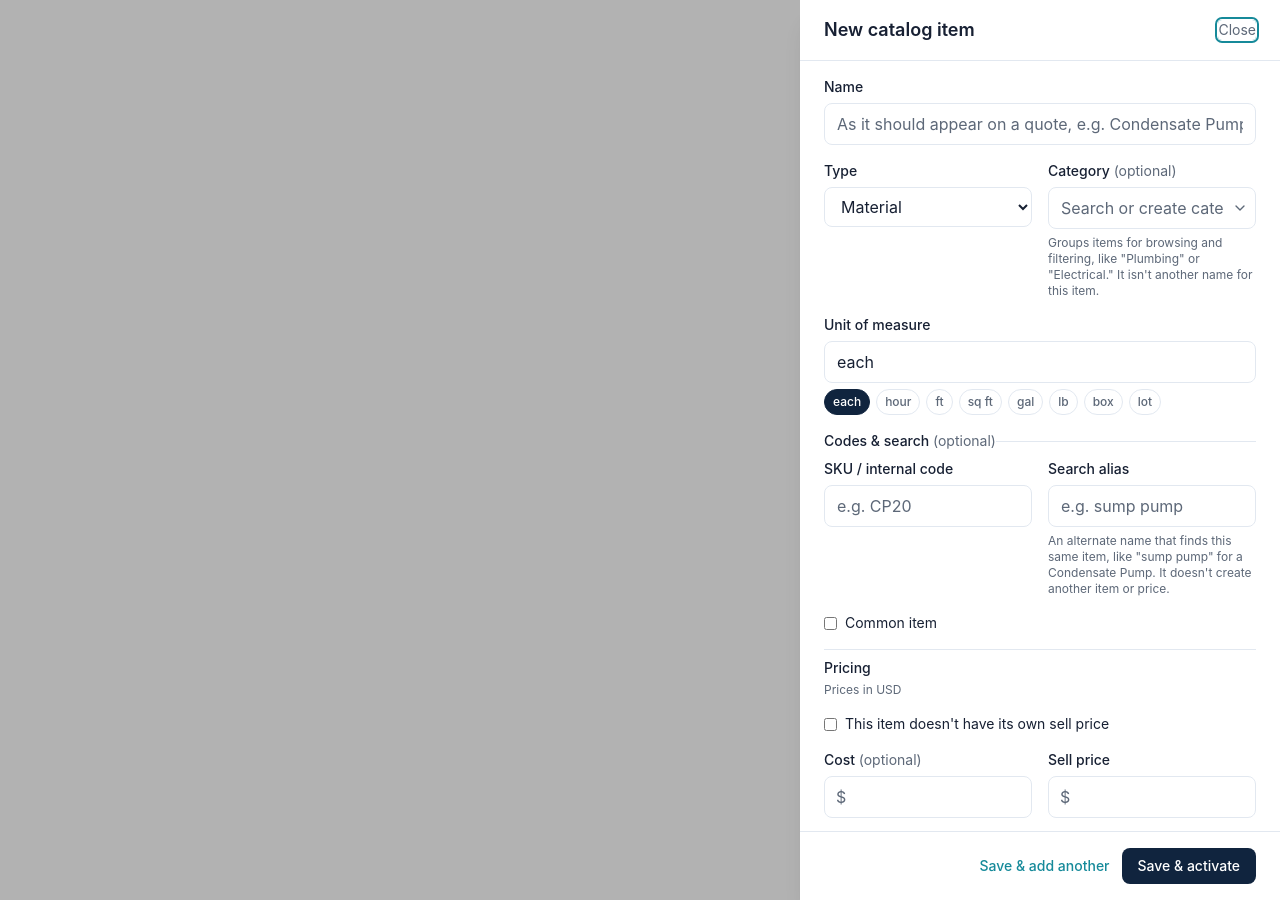
it: CatalogItemDrawer › maps a server SKU-conflict error to the SKU field and focuses it
This screenshot has width=1280, height=900.
Type "Condensate Pump" into the field labelled "Name" at (1040, 124), box [824,103,1256,145]
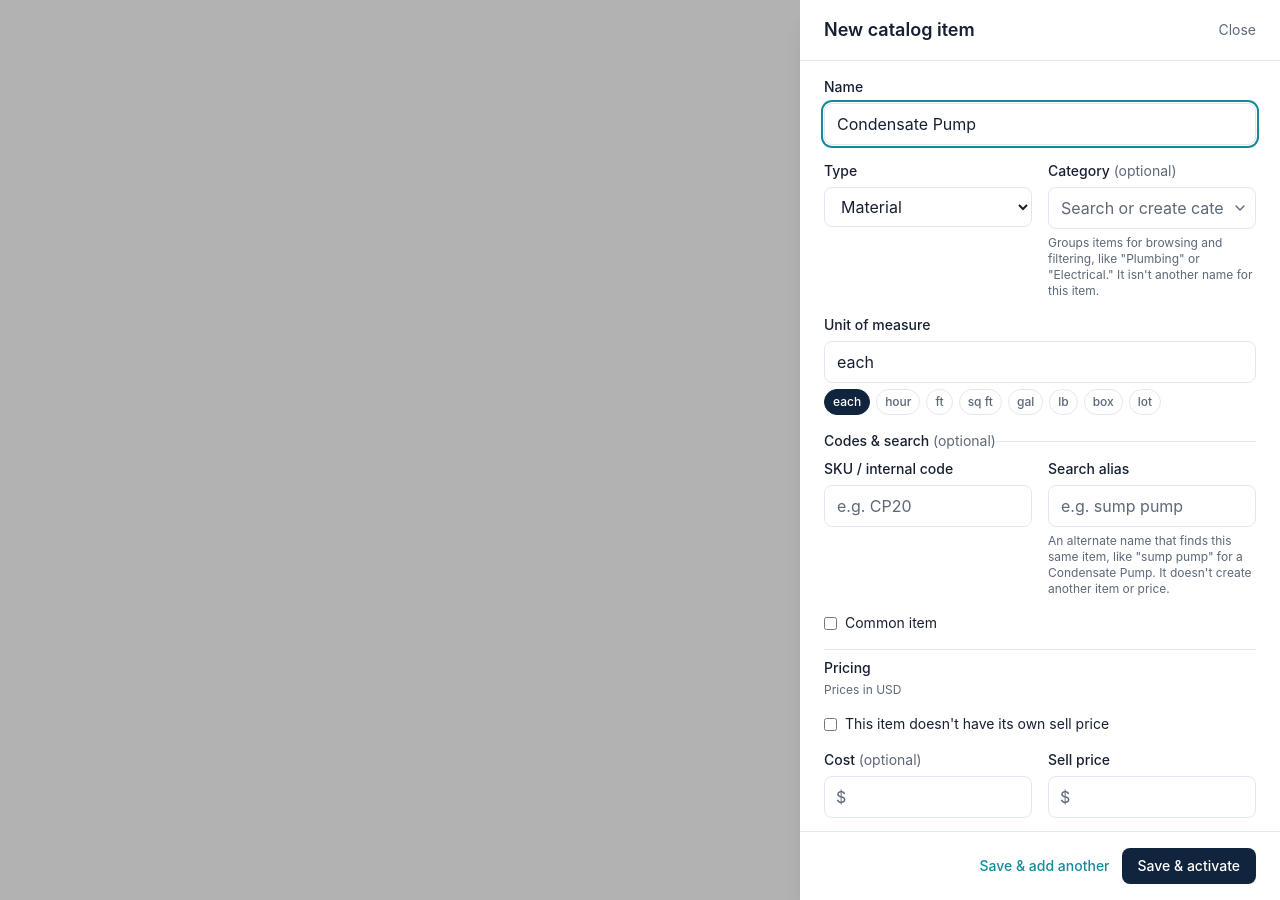
Type "100" into the number field labelled "Sell price" at (1152, 797), box [1048,776,1256,818]
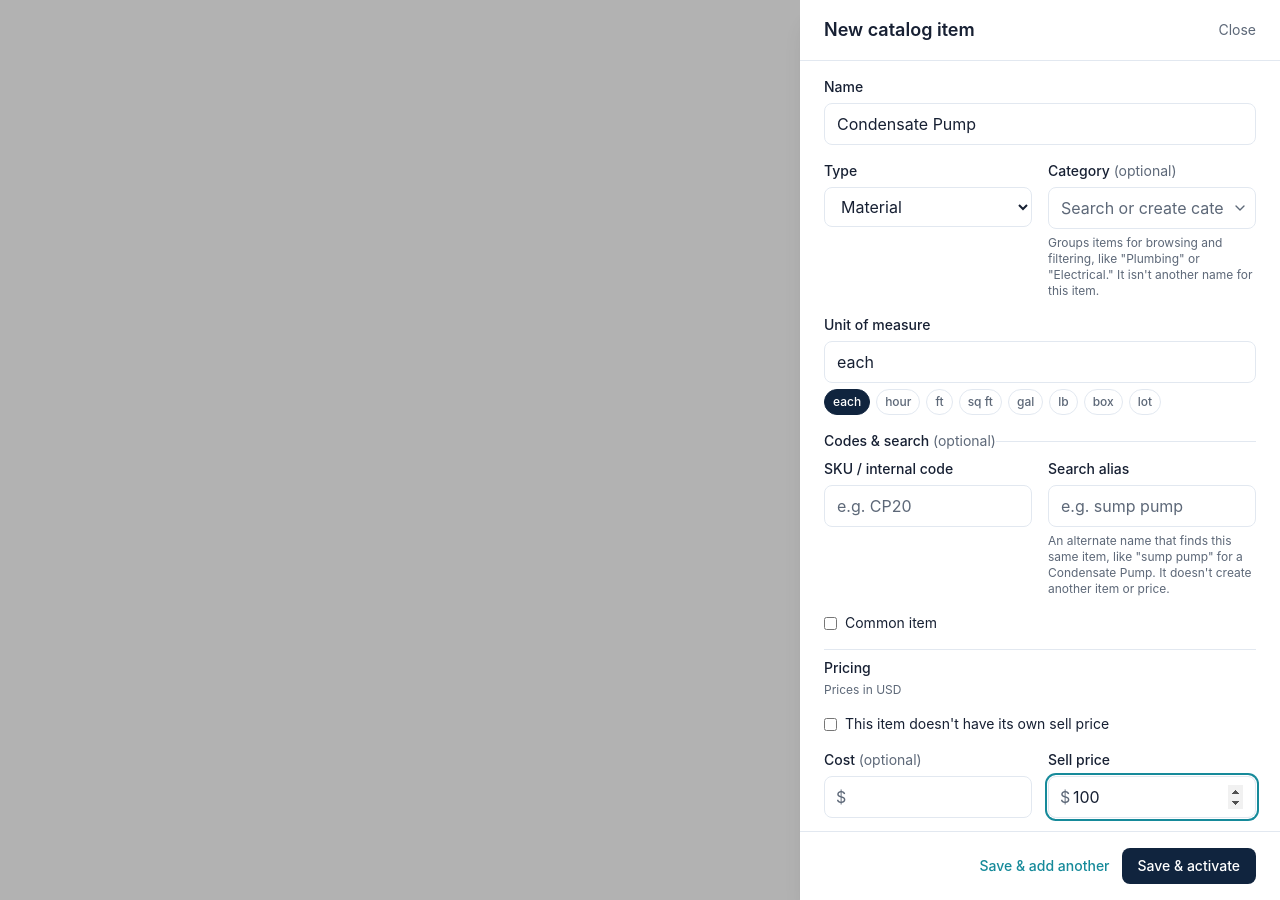
Type "CP20" into the field labelled "SKU / internal code" at (928, 506), box [824,485,1032,527]
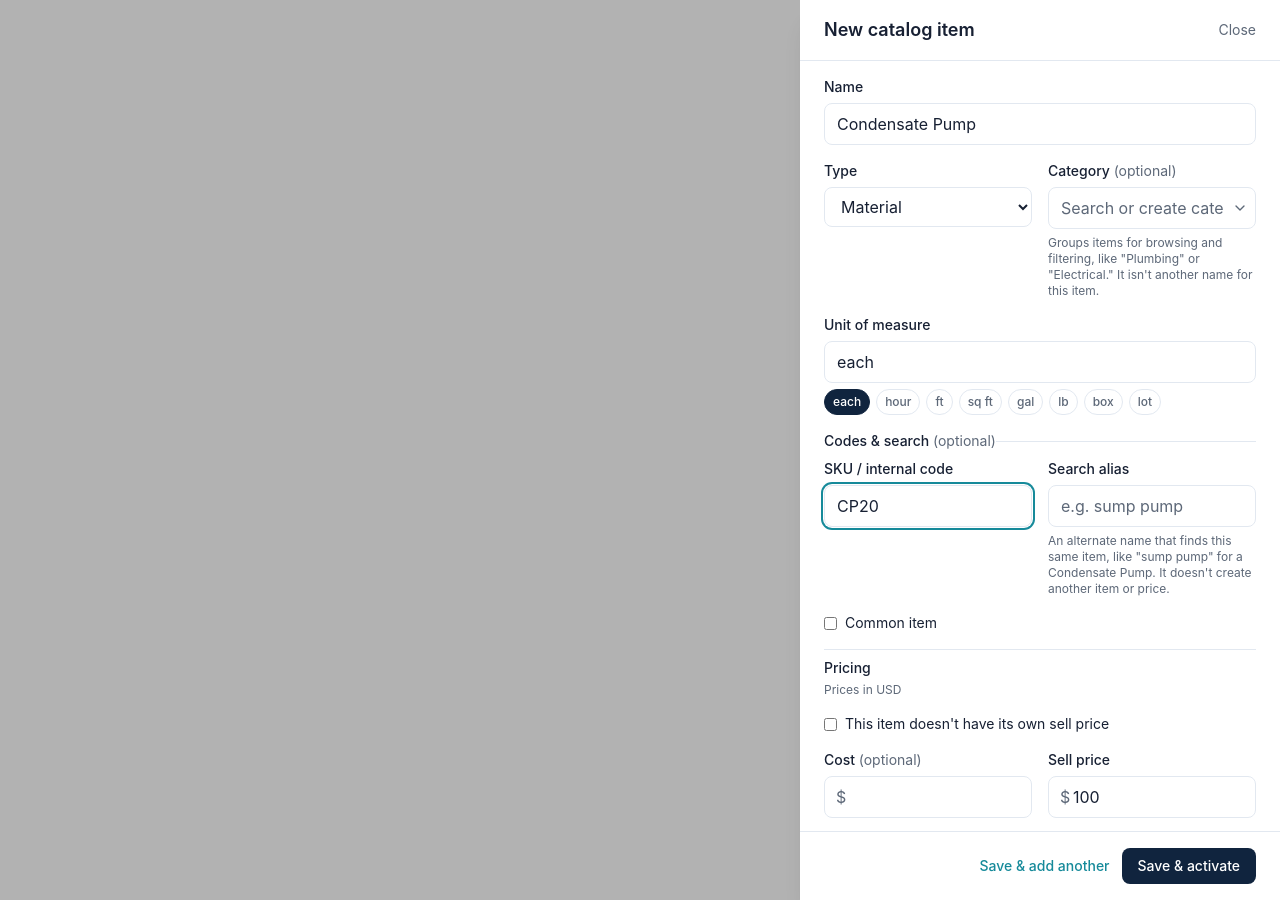
Click the button "Save & activate" at (1189, 866), box [1122,848,1256,884]
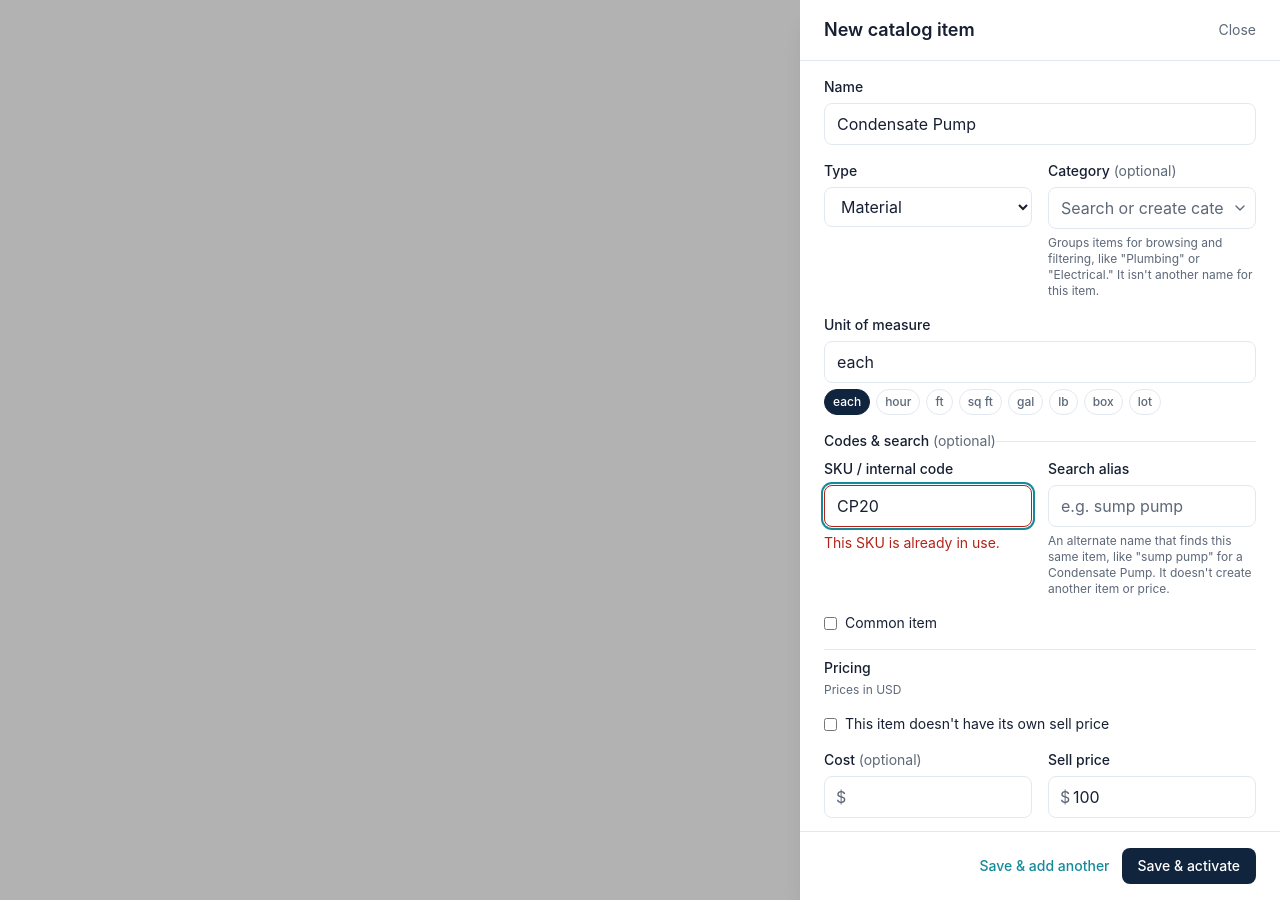
Expected: the text "This SKU is already in use." is shown, [824,534,1000,551]
